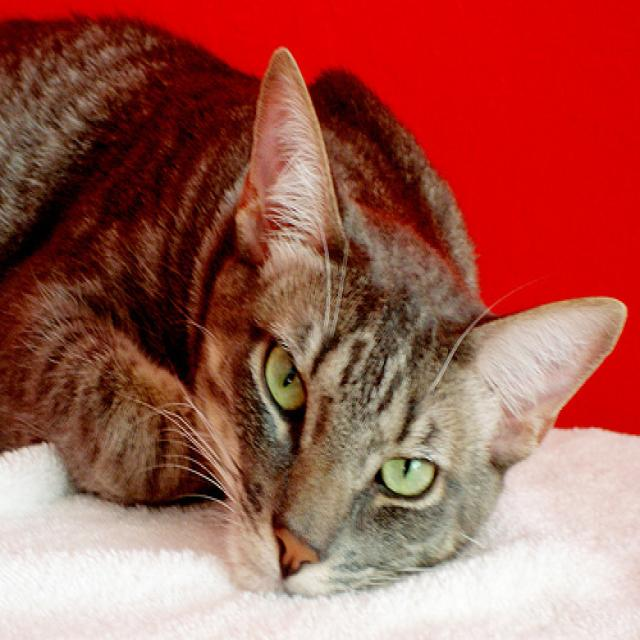cat: (1, 12, 628, 600)
